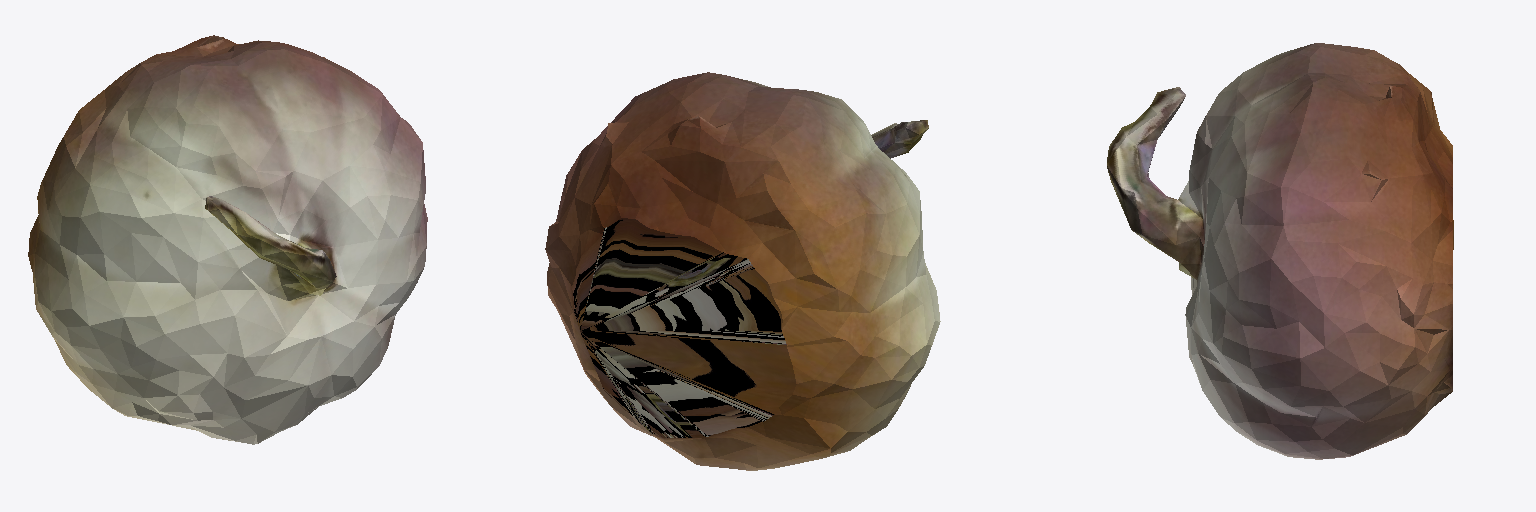
3 views of the same model, side by side, from view 1: azimuth 30°, elevation 25°; view 2: azimuth 150°, elevation 25°; view 3: azimuth 270°, elevation 25° (orthographic).
Visible parts, largest first — view 1: pumpkin_LowPoly; view 2: pumpkin_LowPoly; view 3: pumpkin_LowPoly.
Boxes of the visible parts, box(x1,y1,x2,y2) form: pumpkin_LowPoly: box(28, 35, 427, 444); pumpkin_LowPoly: box(545, 72, 940, 470); pumpkin_LowPoly: box(1107, 43, 1453, 459).
Bounding box in the file's own units: 1.33 × 1.31 × 1.1.
Materials: 1 (1 with a texture image).